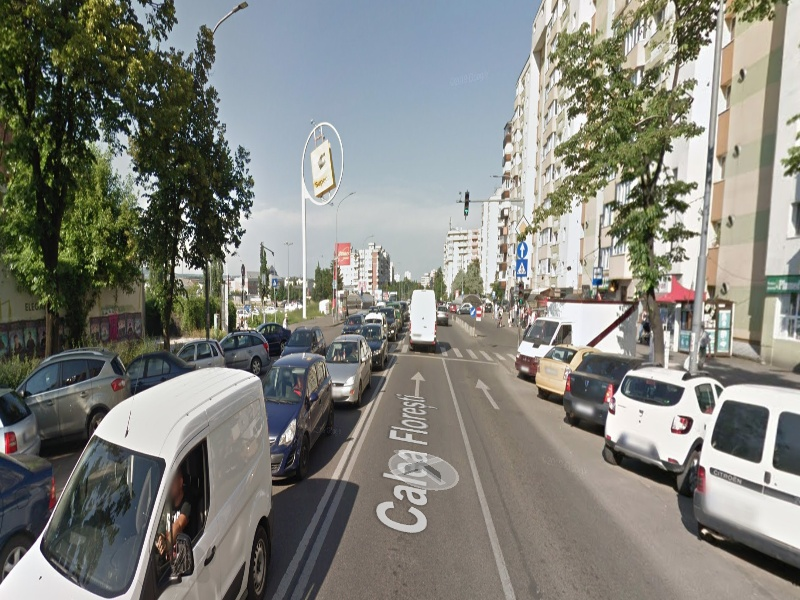crosswalk: (393, 336, 525, 367)
crosswalk_sign: (514, 257, 529, 280)
semaphore: (461, 191, 473, 222)
